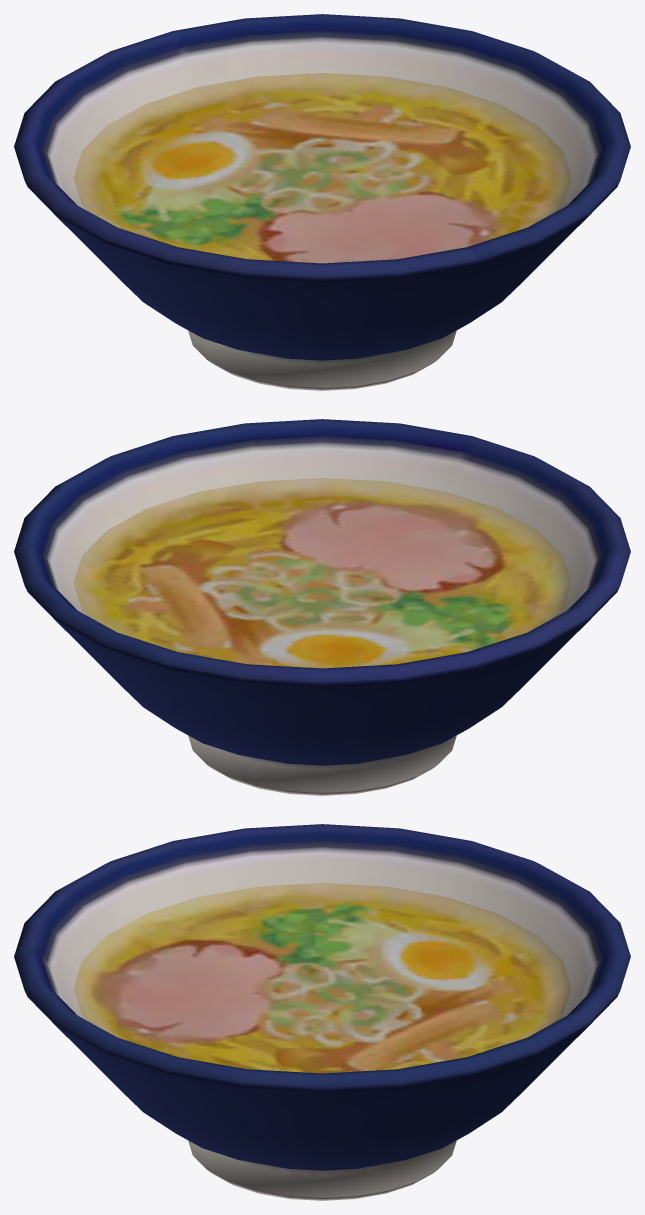
The picture shows the model from 3 angles, top to bottom: view 1: azimuth 30°, elevation 25°; view 2: azimuth 150°, elevation 25°; view 3: azimuth 270°, elevation 25°; orthographic projection.
Size of the model in its own units: 7.64 by 2.69 by 7.64.
1 material, 1 textured.
